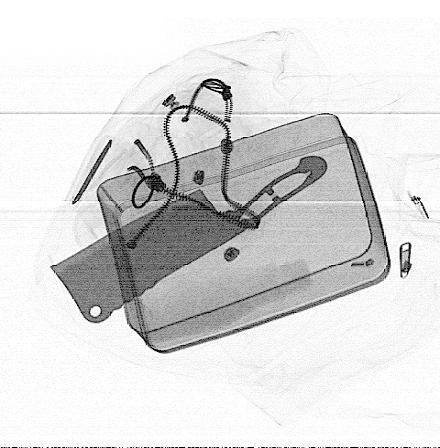Knife: (50, 155, 328, 324)
